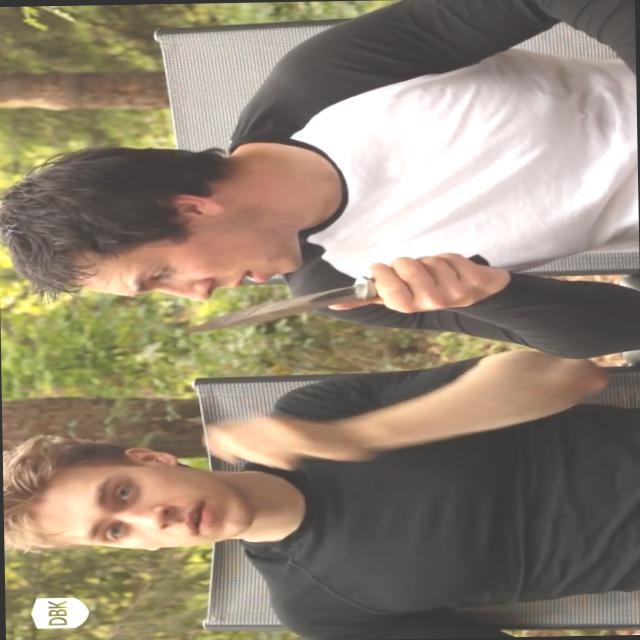knife: (170, 247, 490, 339)
